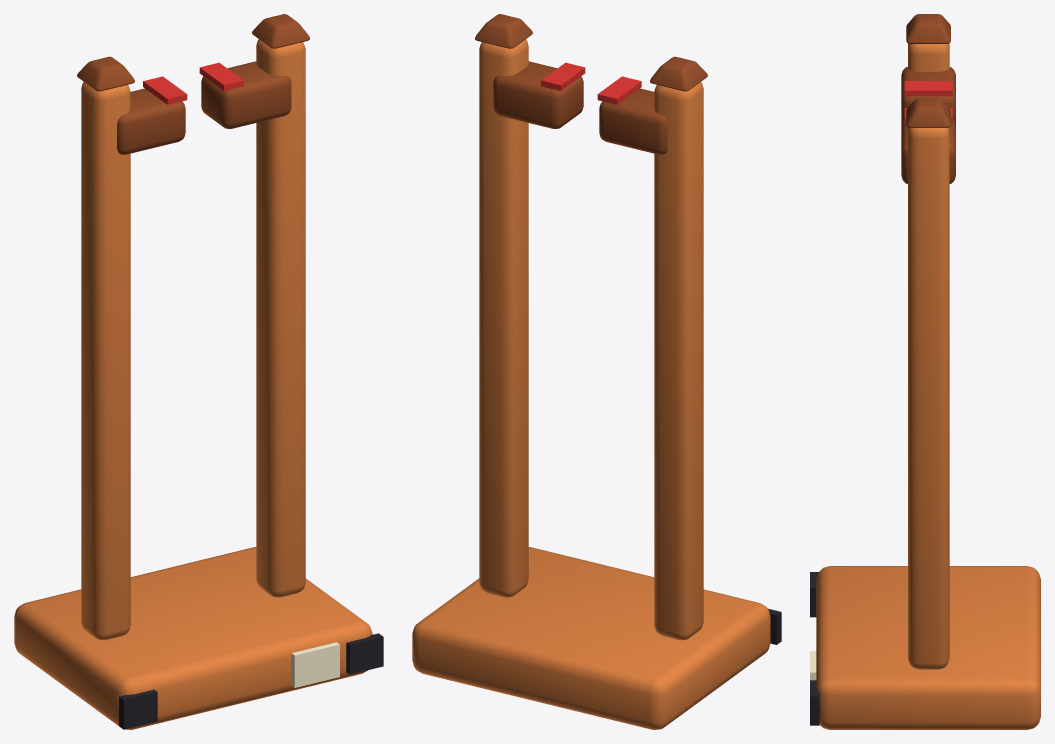
File: SwordHolder.fbx
3 renders of one model, left to right at view 1: azimuth 30°, elevation 25°; view 2: azimuth 150°, elevation 25°; view 3: azimuth 270°, elevation 25°, orthographic.
Visible parts, largest first — view 1: Plinth.001, Upright, Upright.001, Crossbar.001, Crossbar, Tag, UprightCap, UprightCap.001, CornerIron, CornerIron.001, Pad.001, Pad; view 2: Plinth.001, Upright, Upright.001, Crossbar.001, Crossbar, UprightCap, UprightCap.001, Pad.001, Pad; view 3: Plinth.001, Upright.001, UprightCap, UprightCap.001, Upright, Crossbar, Crossbar.001, Pad, CornerIron.001.
Part boxes in pixels (box(x1,y1,x2,y2)): Plinth.001: box(14, 547, 372, 729); Upright: box(81, 82, 130, 640); Upright.001: box(256, 39, 305, 597); Crossbar.001: box(201, 61, 291, 128); Crossbar: box(117, 88, 185, 154); Tag: box(291, 642, 339, 687); UprightCap: box(77, 56, 134, 91); UprightCap.001: box(252, 14, 309, 48); CornerIron: box(119, 689, 157, 729); CornerIron.001: box(346, 633, 383, 674); Pad.001: box(199, 62, 243, 90); Pad: box(143, 76, 187, 104); Plinth.001: box(412, 547, 770, 729); Upright: box(654, 82, 703, 640); Upright.001: box(479, 39, 528, 597); Crossbar.001: box(493, 61, 583, 128); Crossbar: box(599, 88, 667, 154); UprightCap: box(650, 56, 707, 91); UprightCap.001: box(475, 14, 532, 48); Pad.001: box(541, 62, 585, 90); Pad: box(597, 76, 641, 104); Plinth.001: box(816, 566, 1040, 729); Upright.001: box(908, 127, 949, 669); UprightCap: box(906, 14, 950, 43); UprightCap.001: box(906, 98, 950, 127); Upright: box(908, 43, 949, 71); Crossbar: box(901, 67, 955, 124); Crossbar.001: box(901, 119, 955, 183); Pad: box(904, 81, 952, 96); CornerIron.001: box(810, 680, 819, 725).
Bounding box in the file's own units: 1.84 × 4.22 × 1.44.
